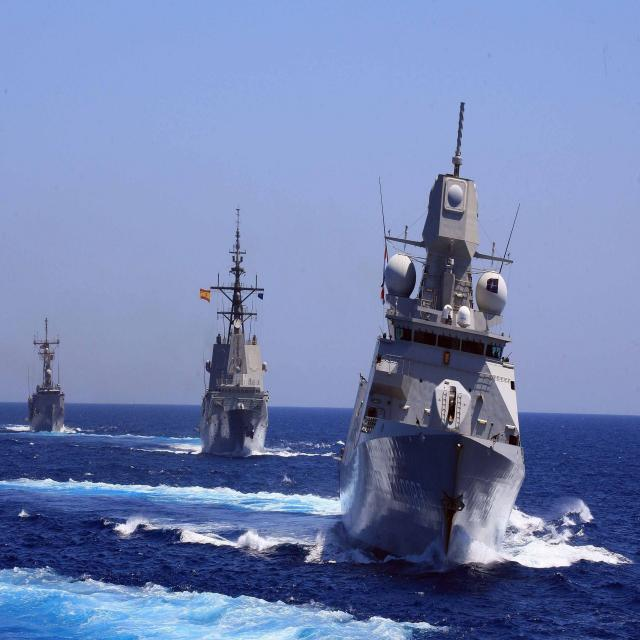navalvessels: (340, 112, 540, 561), (196, 224, 301, 452), (14, 318, 80, 438)
